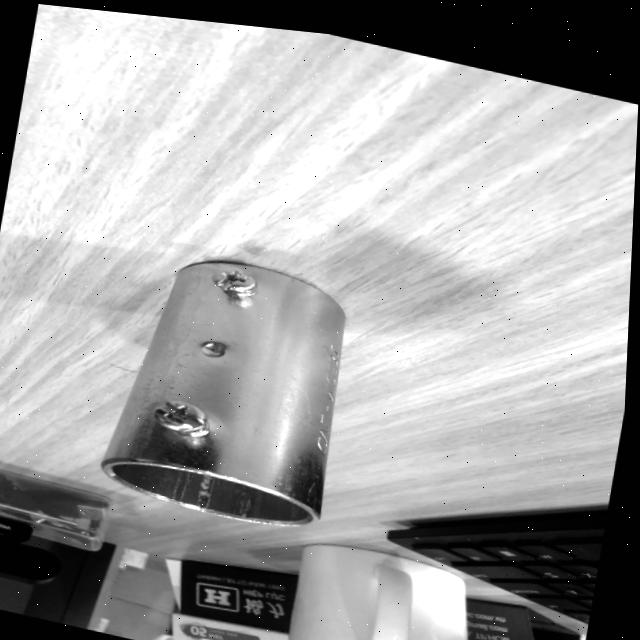Co_Lon: (95, 241, 369, 535)
